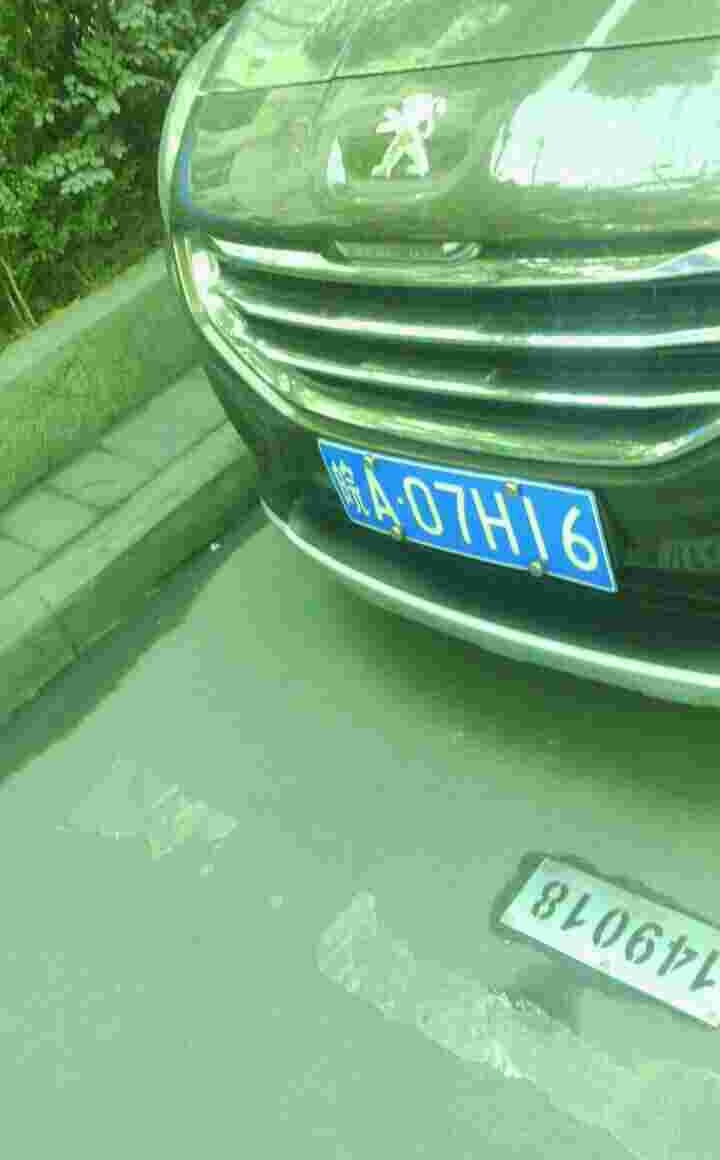license_plate: (325, 446, 618, 584)
